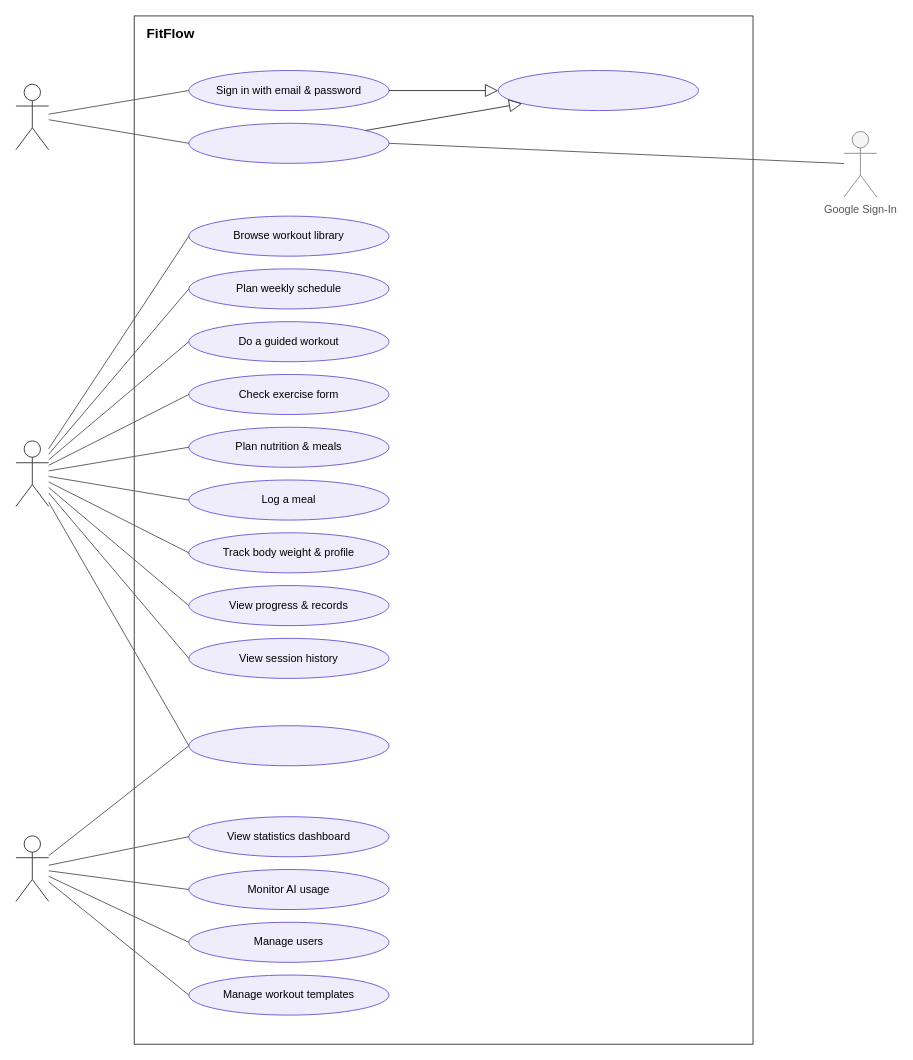
Some shapes in this 913 by 1060 pixel diagram are drawn without their labels. The shapes that lost their labels are listed below. From the top down, each one's box as (x1, y1, x2, y2) in pixels, then its label:
(497, 70, 698, 111): Authenticate
(15, 83, 49, 150): Guest
(188, 122, 389, 163): Sign in with Google
(15, 440, 49, 506): User
(188, 725, 389, 766): Sign out
(15, 835, 49, 901): Admin
